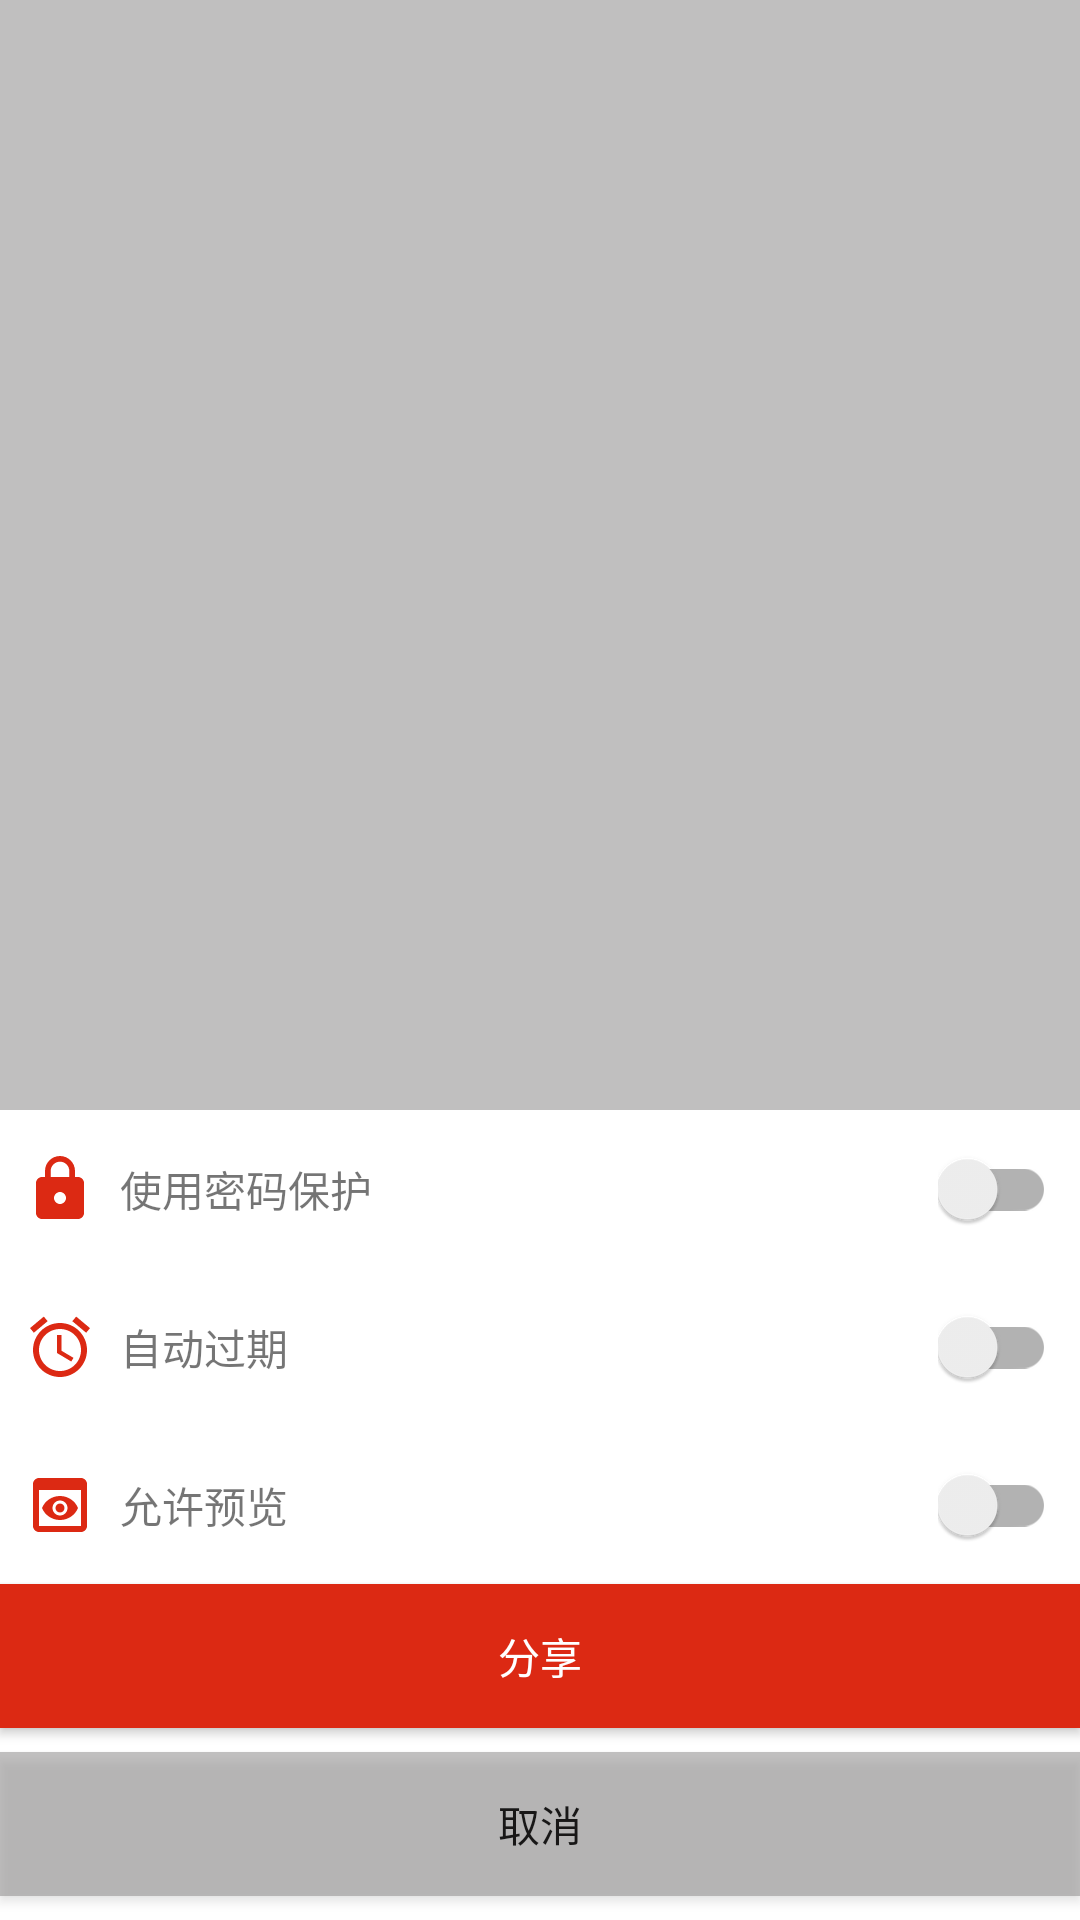

Named icons in this screenshot (1080w x 1920h) and their centers, (x,y):
alarm: (60,1346)
lock: (60,1187)
